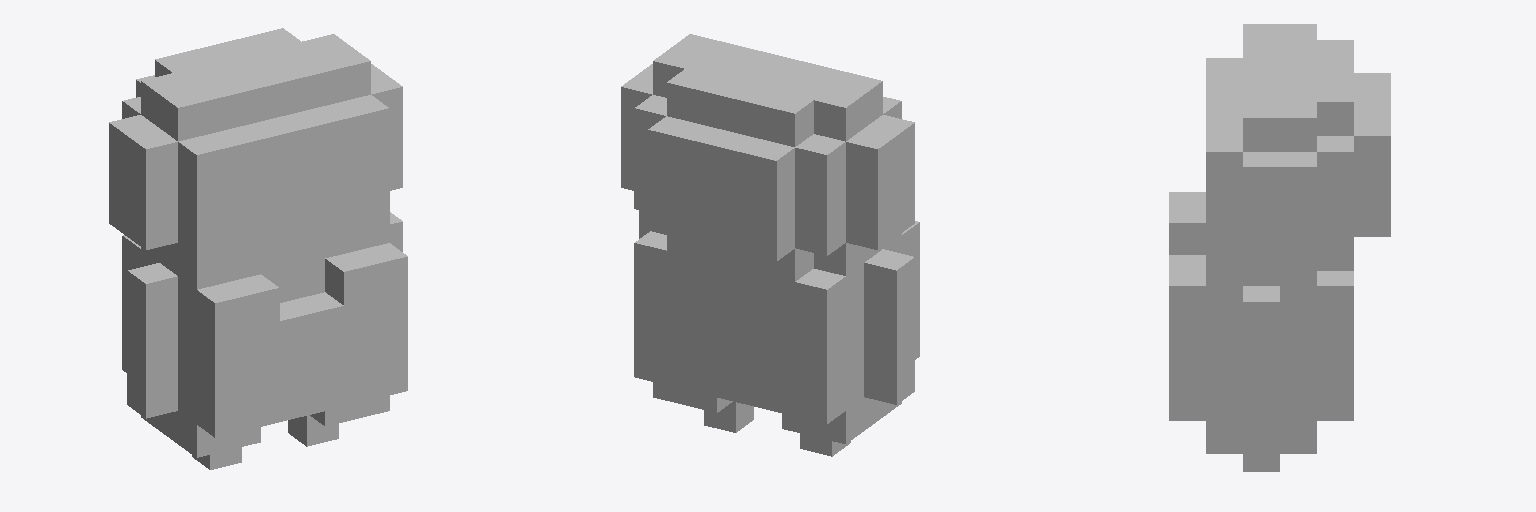
File: chr_nurse.obj
3 views of the same model, side by side, from view 1: azimuth 30°, elevation 25°; view 2: azimuth 150°, elevation 25°; view 3: azimuth 270°, elevation 25° (orthographic).
Visible parts, largest first — view 1: object 1; view 2: object 1; view 3: object 1.
Part boxes in pixels (left/top/right/bottom): object 1: left=109, top=28, right=407, bottom=469; object 1: left=621, top=34, right=919, bottom=456; object 1: left=1169, top=24, right=1390, bottom=471.
Size of the model in its own units: 0.8 by 1.1 by 0.6.